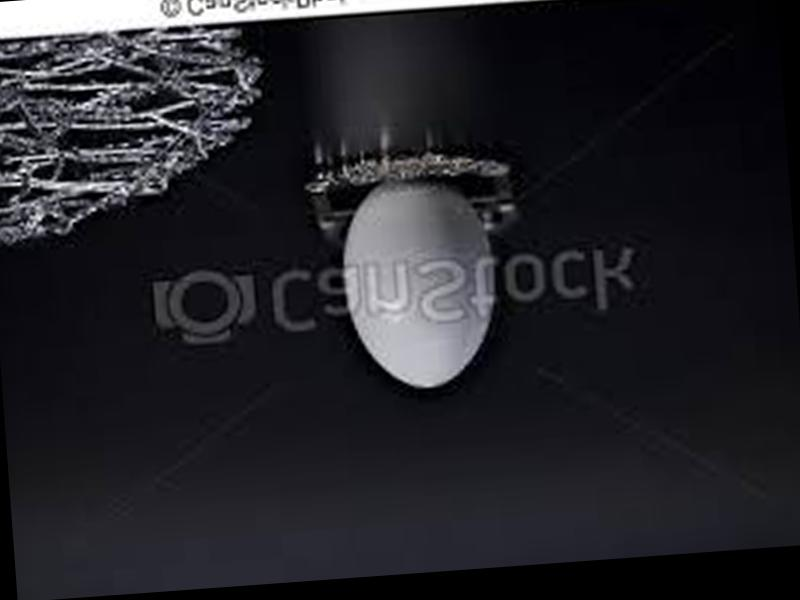Eggs: (335, 172, 502, 392)
